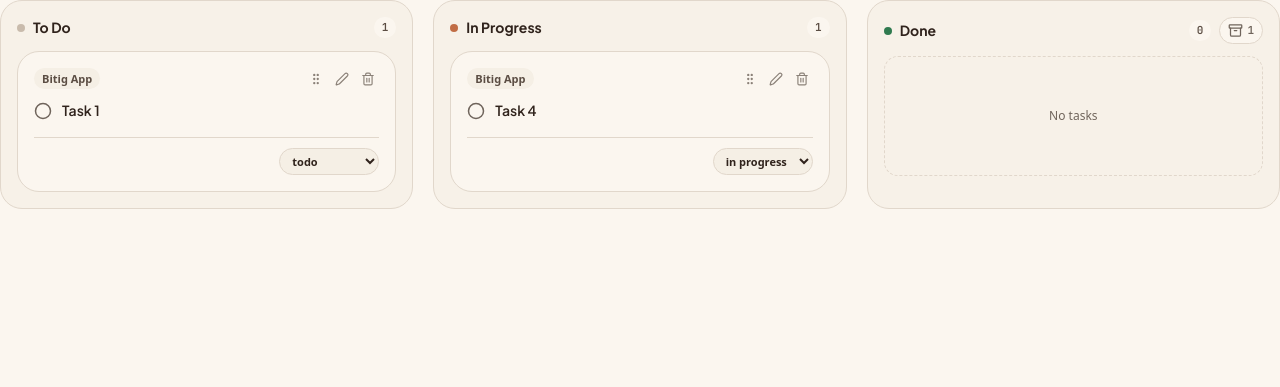
Test: TaskBoard reordering › hides the archived column by default and toggles it via the archive icon button
Expected: the text "Task 7" is not shown
Click the button with test id "toggle-archived-tasks".
click(1241, 30)  # box [1219,17,1263,44]
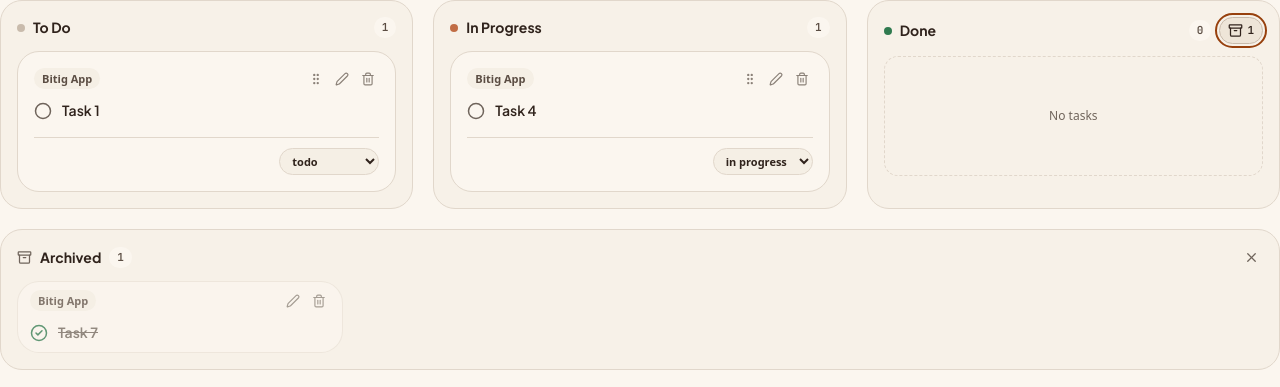
Expected: the element with test id "column-archived" is shown, [0,229,1279,370]
Expected: the button "Task 7" is shown, [58,322,98,344]
Click the button named "Hide archived tasks".
click(1252, 258)  # box [1240,246,1263,269]
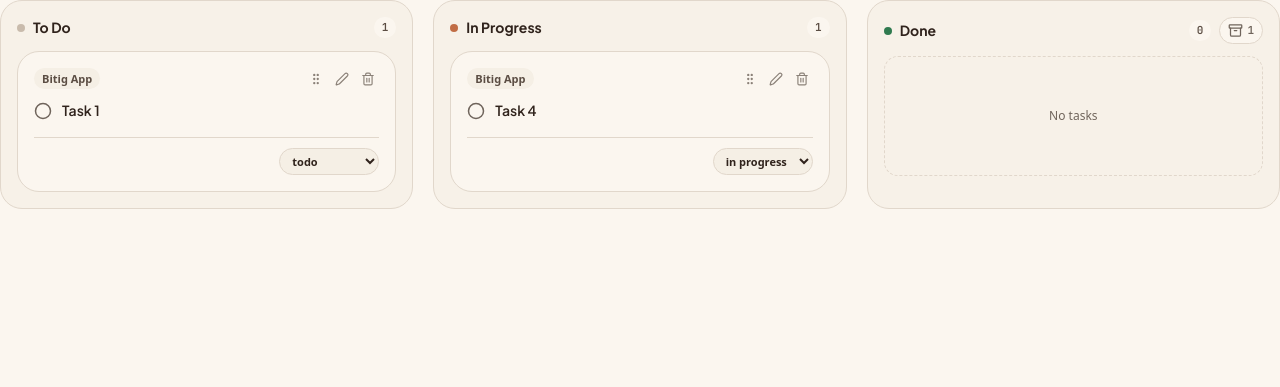
Expected: the element with test id "column-archived" is gone
